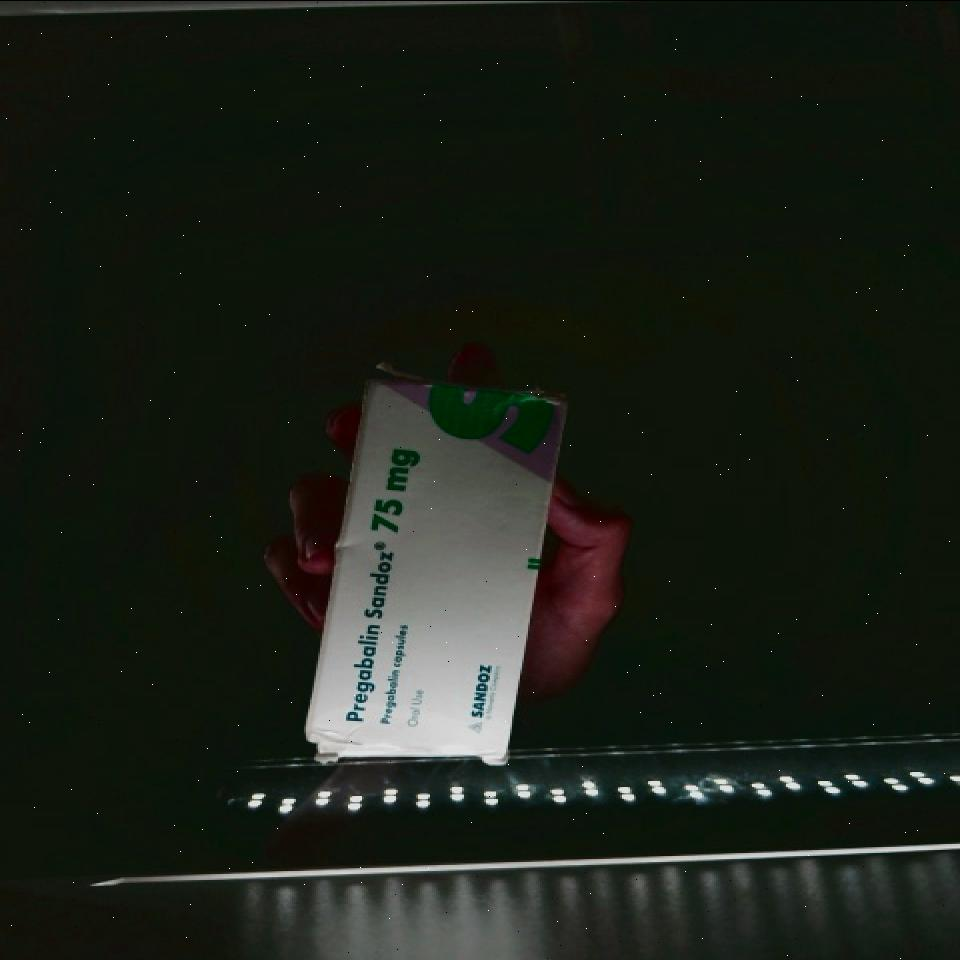medicine_box: (308, 362, 568, 782)
medicine_label_obb: (317, 530, 410, 744)
